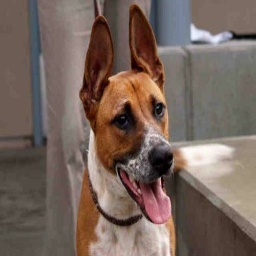dog: (76, 3, 179, 256)
